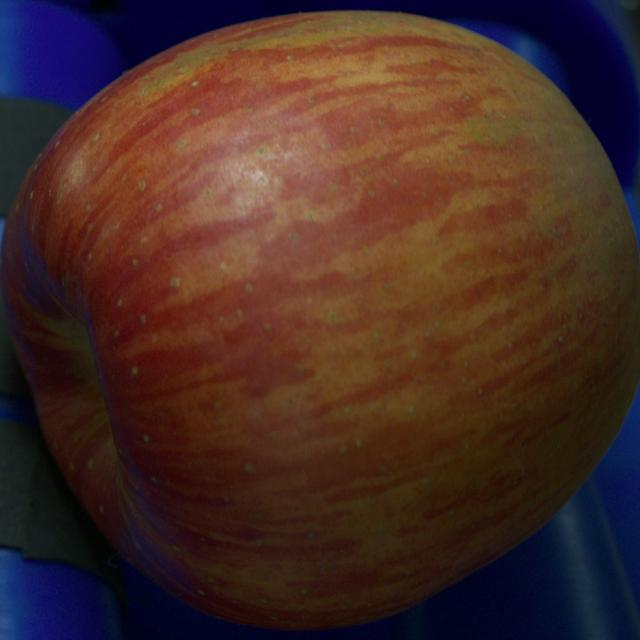apple: (1, 11, 639, 628)
